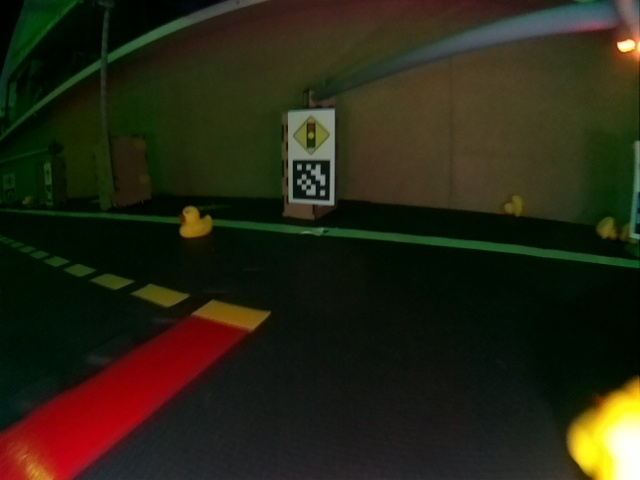Duckie: (180, 206, 211, 237), (598, 218, 618, 238), (505, 196, 523, 218), (23, 196, 31, 205)
QR code: (292, 158, 331, 201)
Signal sign: (290, 115, 332, 155)
Traffic light: (617, 3, 640, 56)
